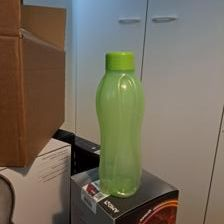bottle: (94, 47, 147, 196)
